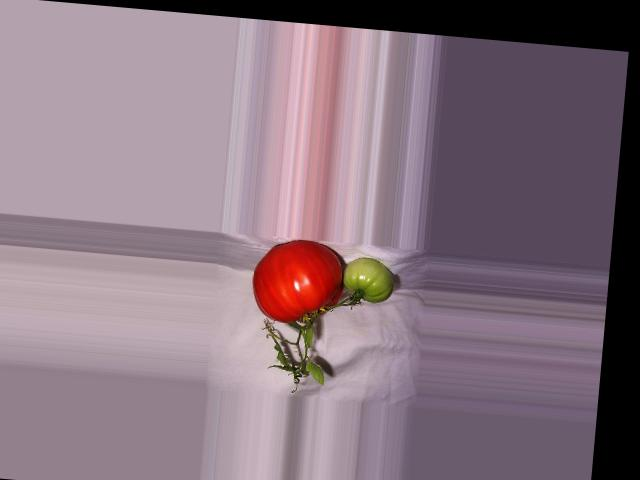tomato: (249, 236, 347, 327)
